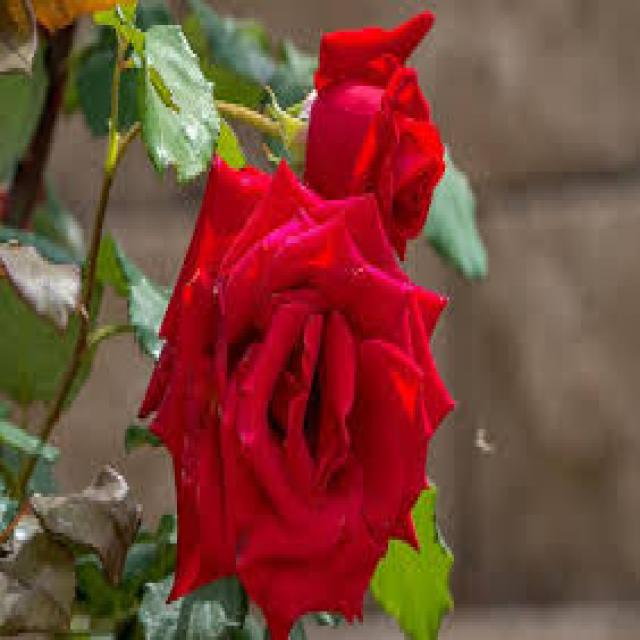rose: (136, 139, 452, 640)
